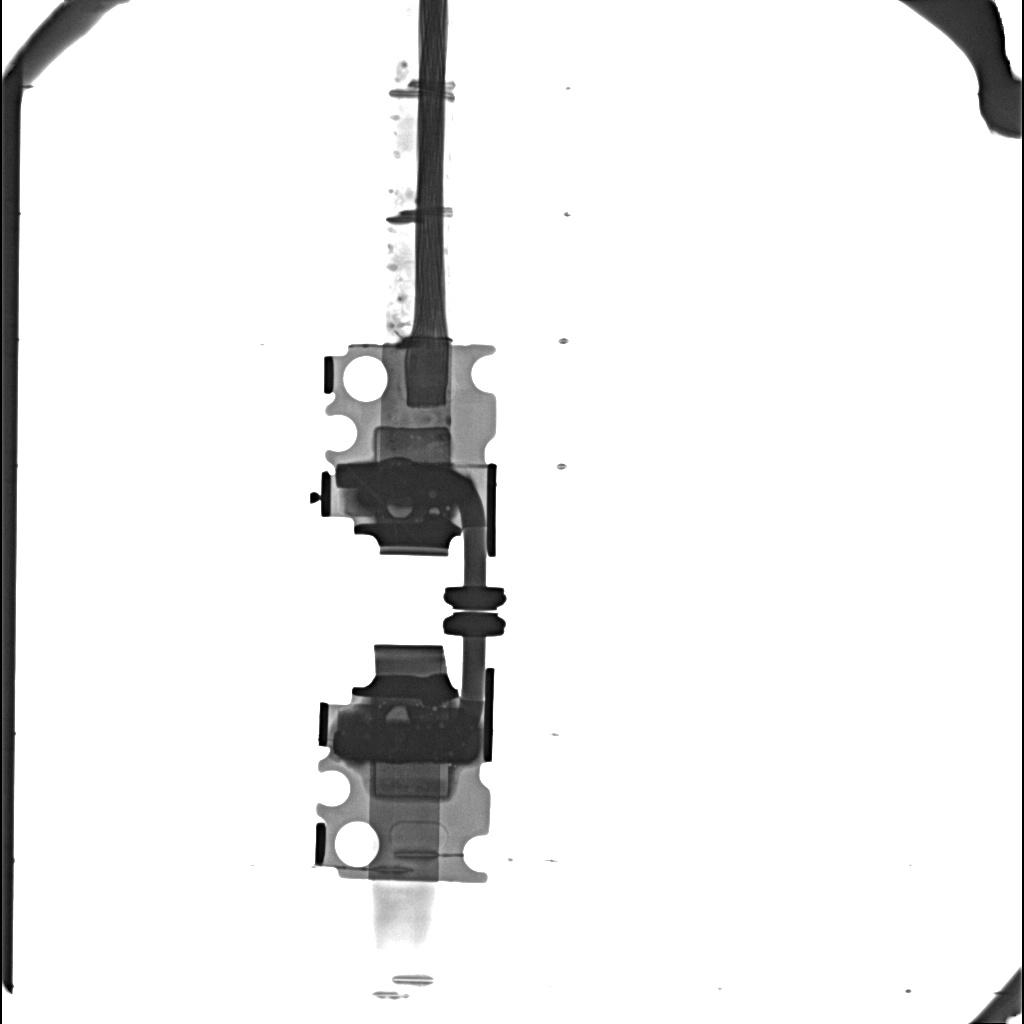PX: (373, 765, 452, 800), (374, 426, 452, 461)
QP: (385, 705, 411, 721), (387, 506, 412, 519), (429, 507, 440, 515)
SX: (334, 710, 478, 762), (359, 464, 474, 508)
